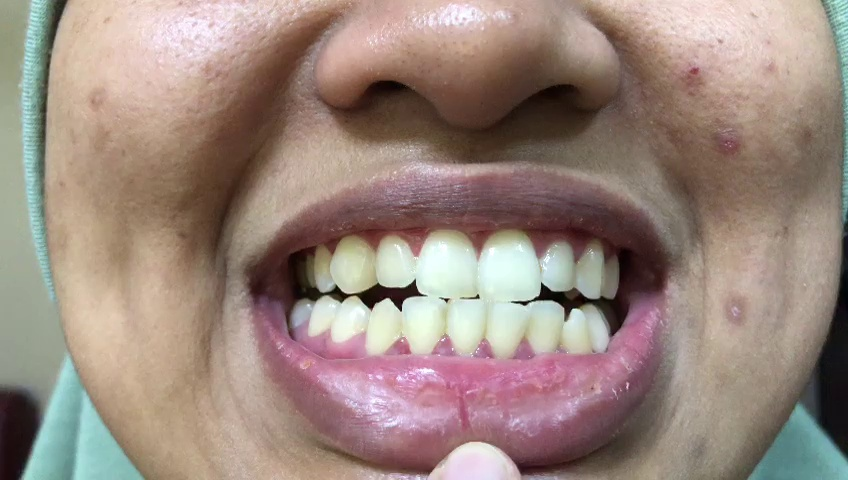1st Molar: (288, 294, 313, 329)
1st Premolar: (331, 297, 370, 342), (581, 303, 608, 353), (311, 237, 333, 295), (604, 251, 619, 302)
2nd Premolar: (307, 299, 338, 343)
Canine: (330, 235, 375, 294), (365, 297, 403, 355), (577, 237, 607, 299), (562, 305, 591, 354)
Central Incisor: (479, 230, 544, 300), (416, 226, 478, 299), (444, 299, 487, 358), (488, 299, 530, 359)
Lateral Incisor: (401, 297, 443, 359), (527, 297, 566, 359), (376, 231, 414, 289), (541, 240, 578, 291)
